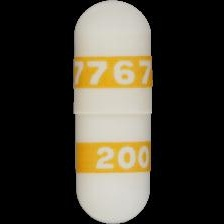55154-3625: (0, 0, 224, 224)
